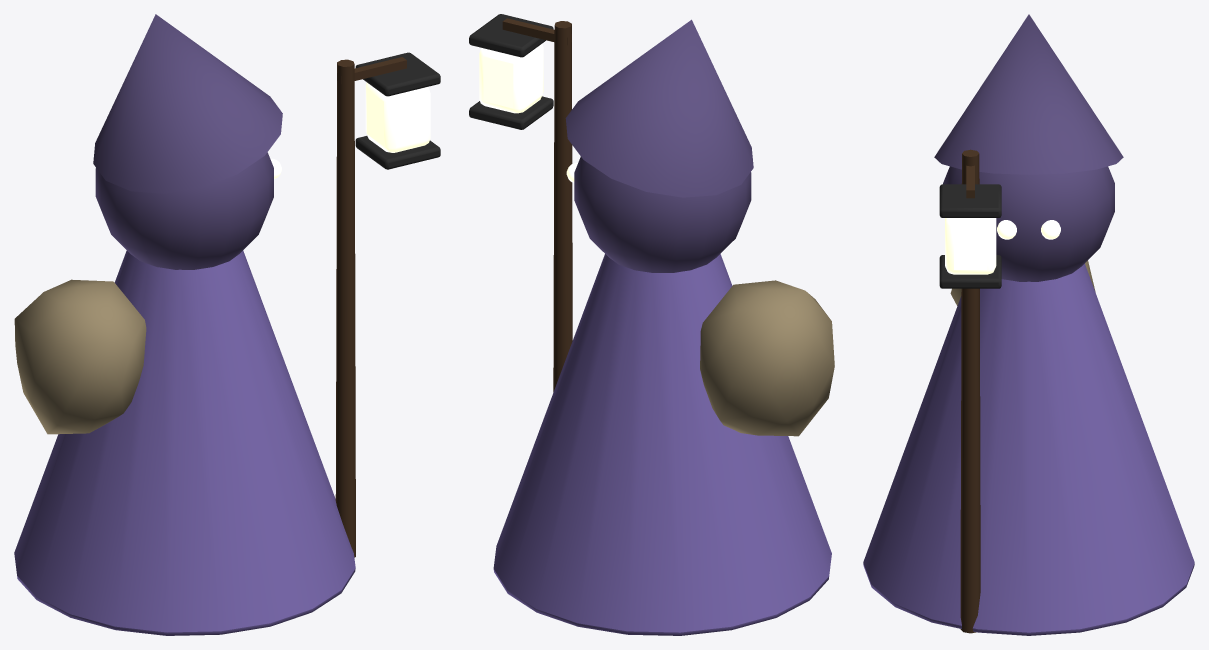
The model's file is unit-unneeded.glb.
3 renders of one model, left to right at view 1: azimuth 30°, elevation 25°; view 2: azimuth 150°, elevation 25°; view 3: azimuth 270°, elevation 25°, orthographic. The views are drawn at different scales.
Parts seen in each view (by area): view 1: unit-unneeded; view 2: unit-unneeded; view 3: unit-unneeded.
Part boxes in pixels (<box>): unit-unneeded: <box>14,14,440,635</box>; unit-unneeded: <box>469,14,834,635</box>; unit-unneeded: <box>863,14,1194,635</box>.
Size of the model in its own units: 0.5699 by 0.8169 by 0.4549.
